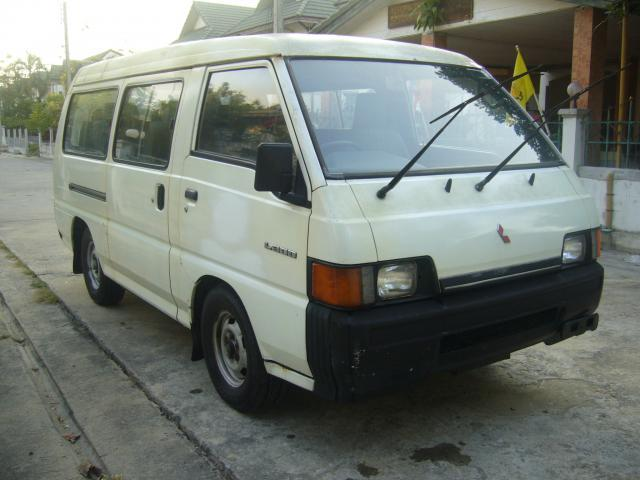car: (46, 37, 607, 417)
